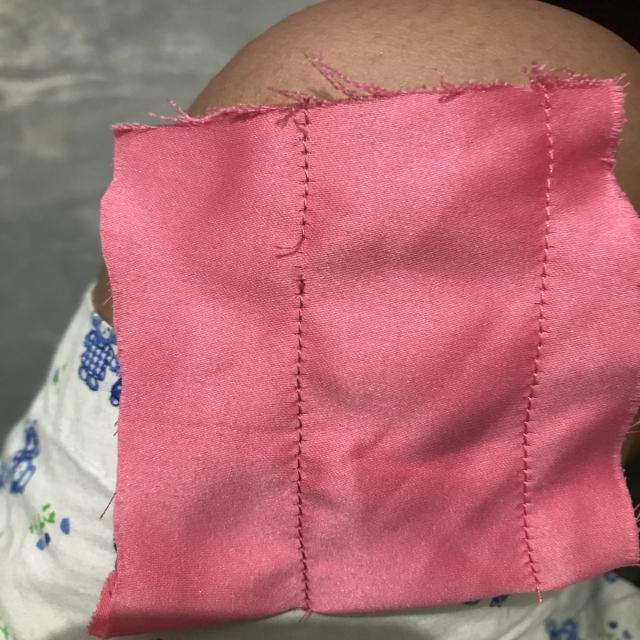broken: (274, 220, 328, 303)
good: (292, 341, 309, 454)
